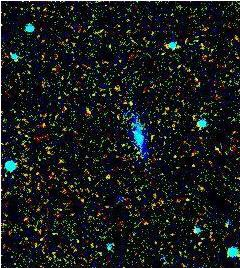star: (90, 161, 120, 191)
